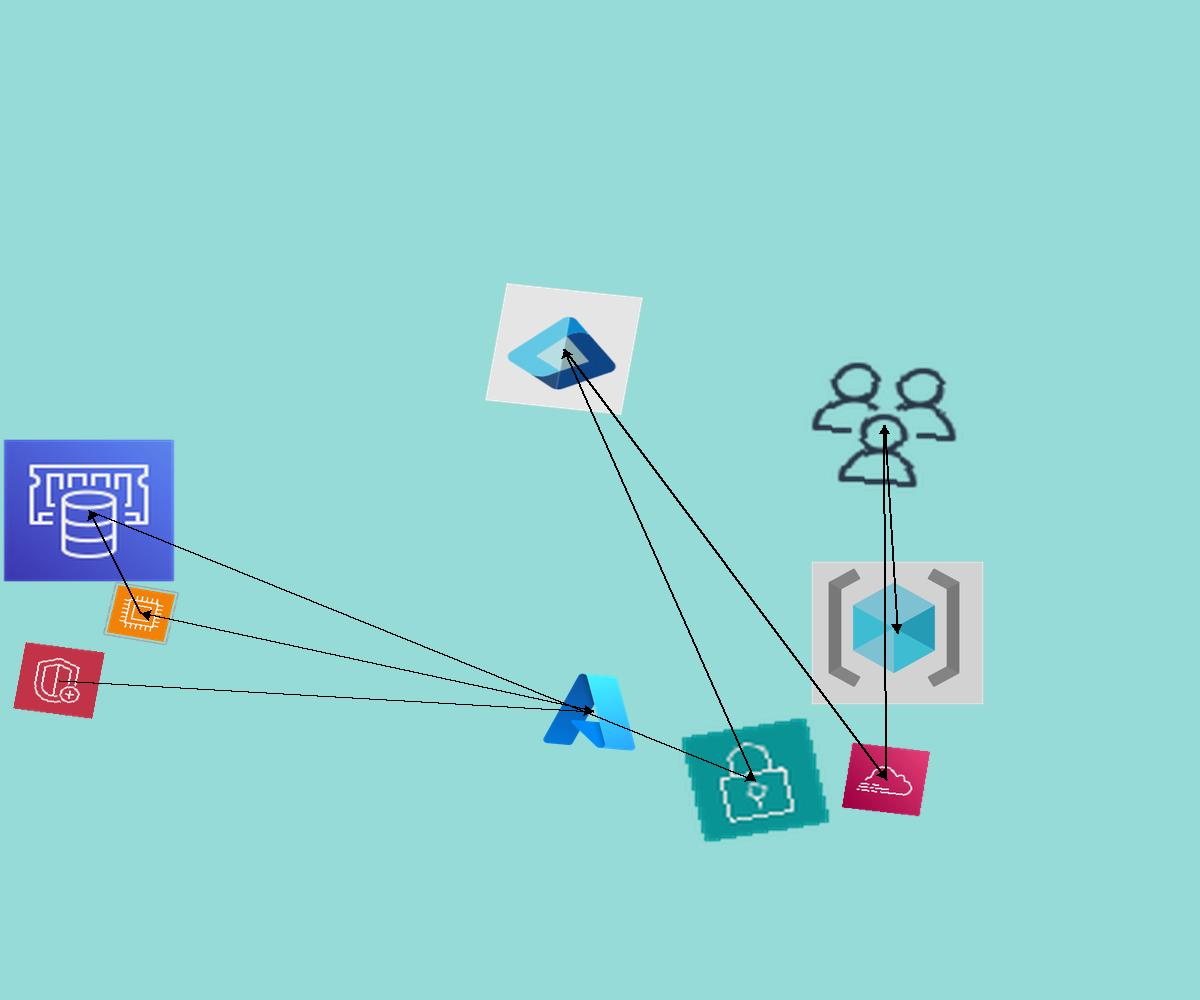AWS-Category_Compute: (102, 581, 180, 646)
AWS-CloudTrail: (841, 742, 931, 817)
AWS-ElastiCache: (2, 438, 176, 583)
AWS-Private-subnet: (679, 716, 832, 844)
AWS-Res_Users: (796, 352, 972, 498)
AWS-Shield: (13, 642, 105, 719)
Azure_microsoft_entra: (485, 283, 643, 415)
Azure_resource_group: (811, 561, 984, 705)
Azure_services: (538, 665, 649, 757)
